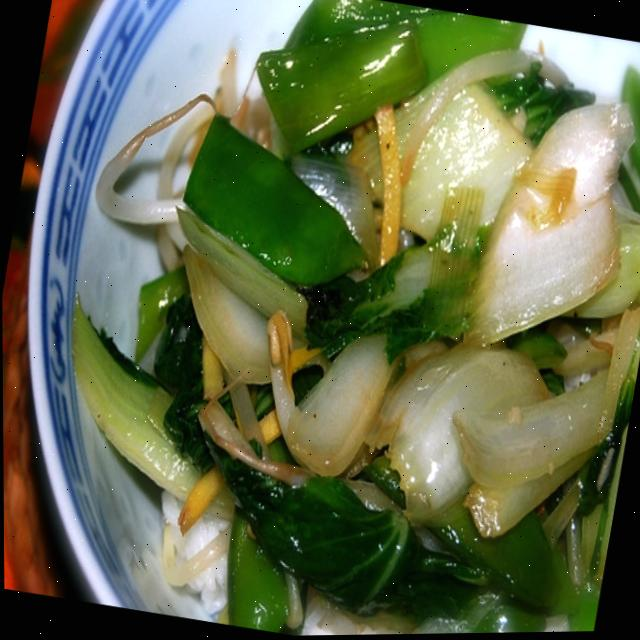蔬菜料理: (12, 0, 640, 640)
